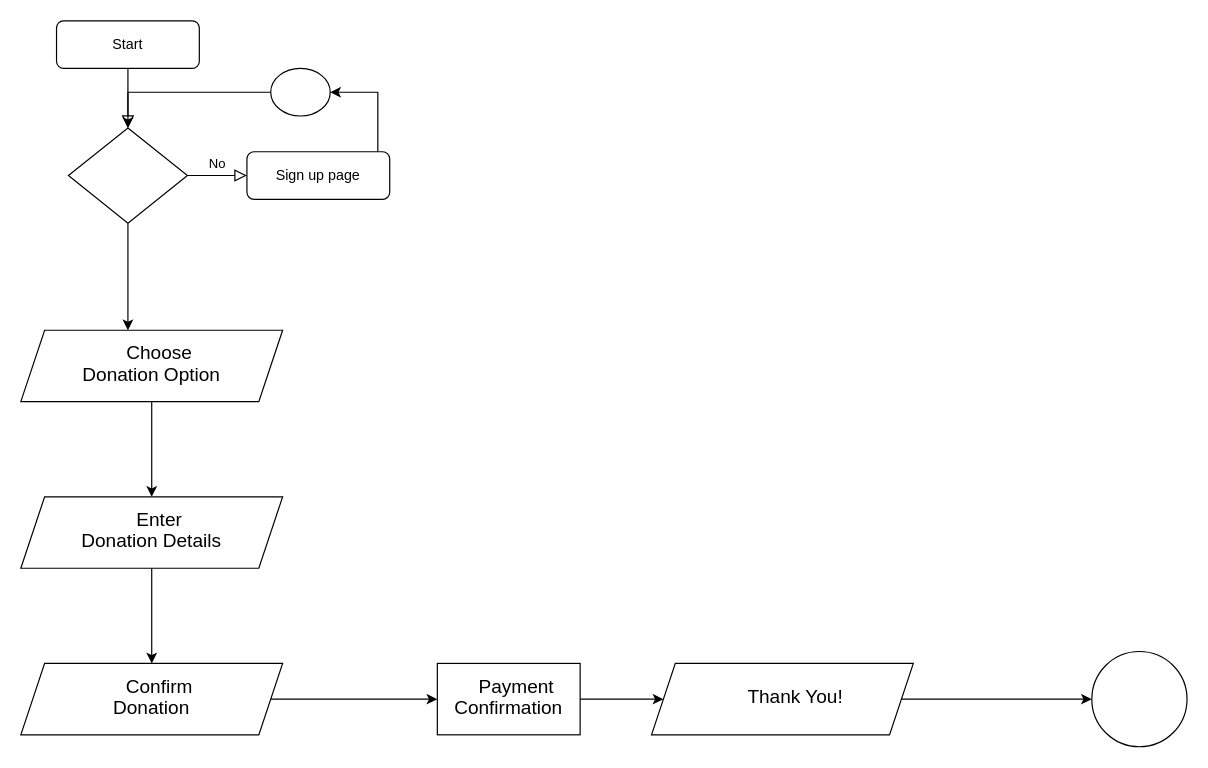
The diagram is 1208 pixels wide and 768 high, and some of its shapes have lost their labels. The shapes that lost their labels are listed below. From the top down, each one's centre as x and y in pixels, then its label:
At point 127,175: "Are you registered?".
At point 1139,698: "End".
